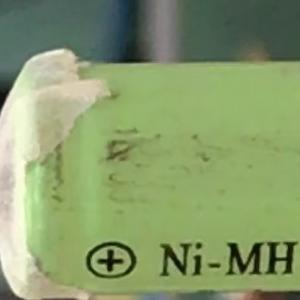NI-MH: (150, 232, 296, 286)
